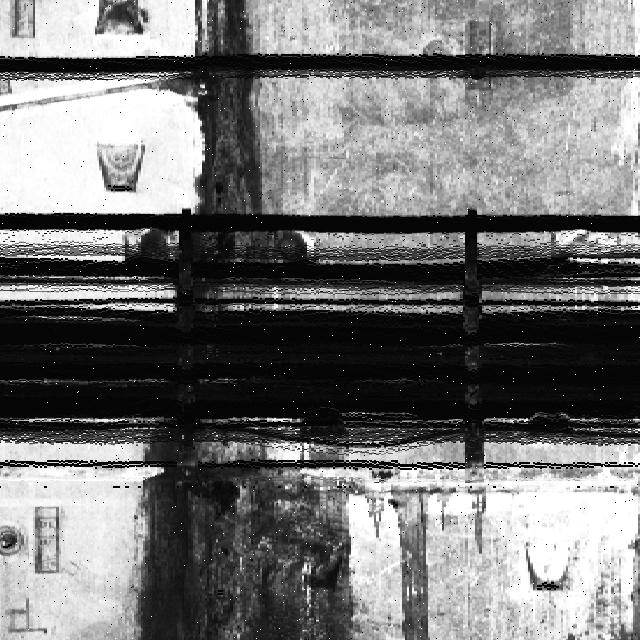leakage: (117, 1, 307, 273), (124, 438, 352, 640), (388, 486, 440, 640)
